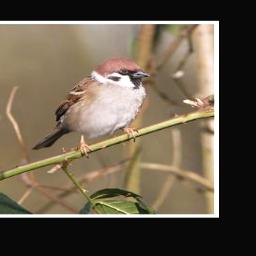Sparrow: (28, 56, 153, 158)
